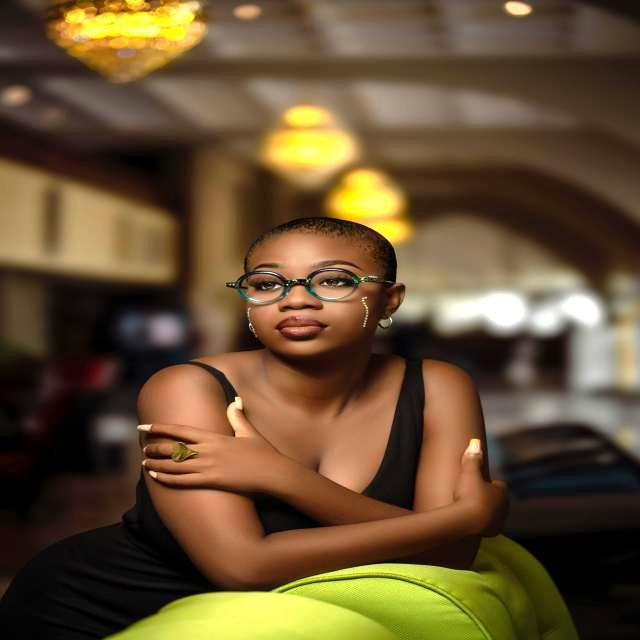no_head_wear: (244, 217, 397, 283)
person: (16, 217, 507, 640)
